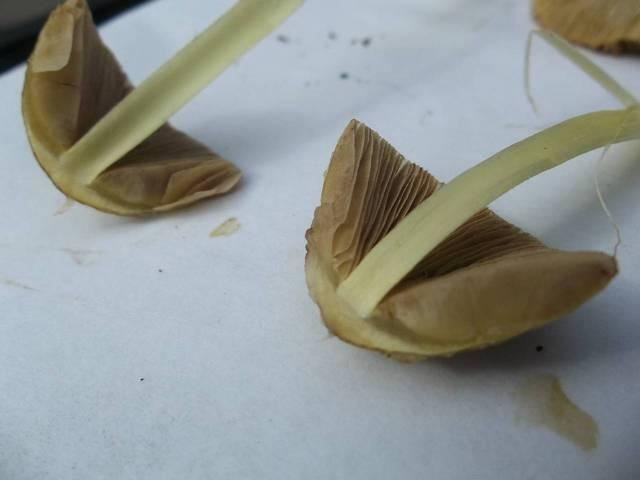Edible Mushroom: (302, 114, 622, 363), (17, 0, 260, 229)
